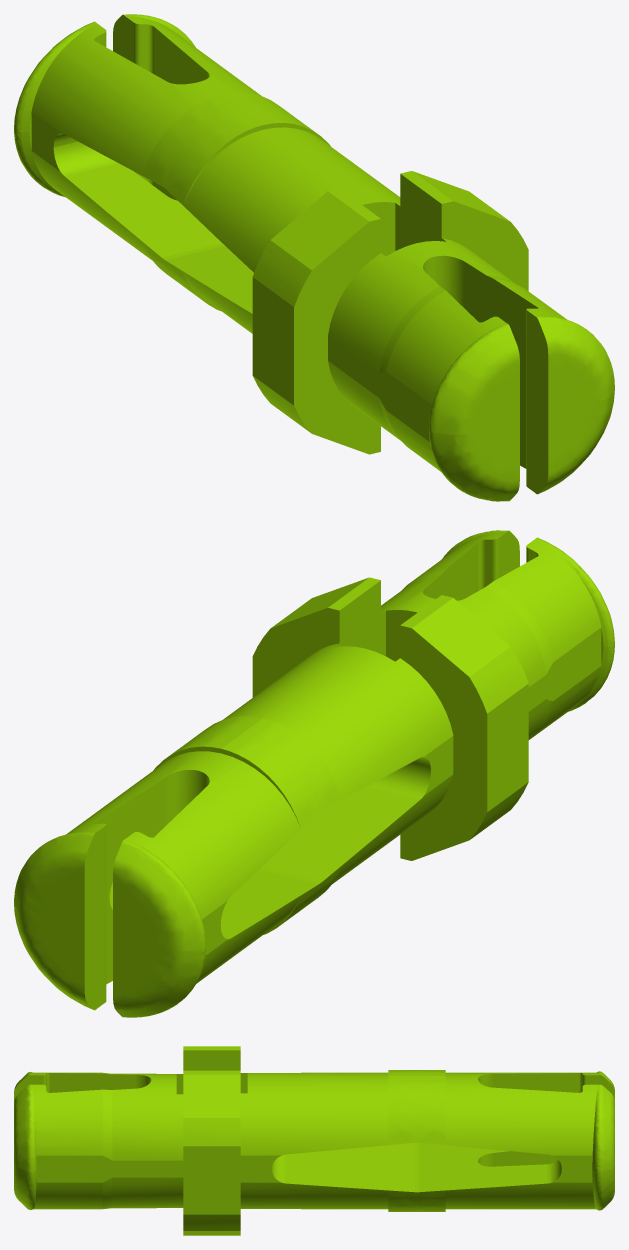
Rendered from 1x2 Connector Pin (Weak) (228-2500-2261).glb.
3 views of the same model, one above another, from view 1: azimuth 30°, elevation 25°; view 2: azimuth 150°, elevation 25°; view 3: azimuth 270°, elevation 25° (orthographic). The views are drawn at different scales.
Visible parts, largest first — view 1: 1x2 Connector Pin (Weak) (228-2500-2261); view 2: 1x2 Connector Pin (Weak) (228-2500-2261); view 3: 1x2 Connector Pin (Weak) (228-2500-2261).
Boxes of the visible parts, box(x1,y1,x2,y2) form: 1x2 Connector Pin (Weak) (228-2500-2261): box(14, 14, 614, 501); 1x2 Connector Pin (Weak) (228-2500-2261): box(14, 530, 614, 1017); 1x2 Connector Pin (Weak) (228-2500-2261): box(14, 1046, 614, 1235).
Size of the model in its own units: 0.2283 by 0.2165 by 0.7334.
